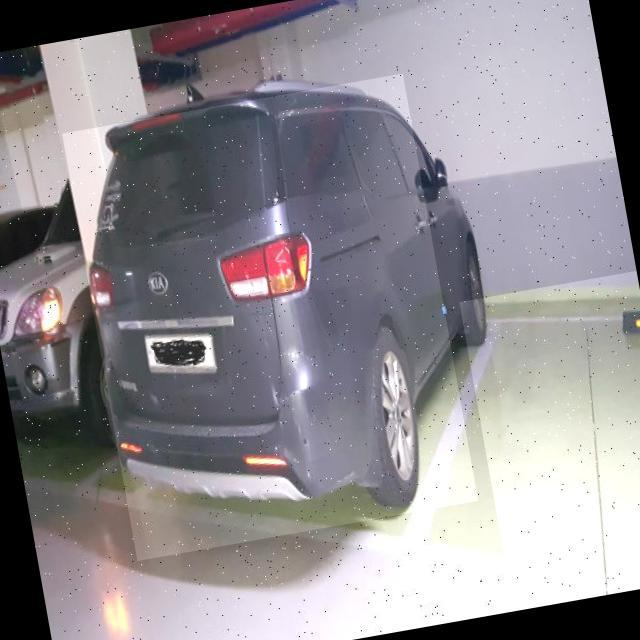empty: (459, 270, 640, 607)
occupied: (61, 73, 478, 560)
